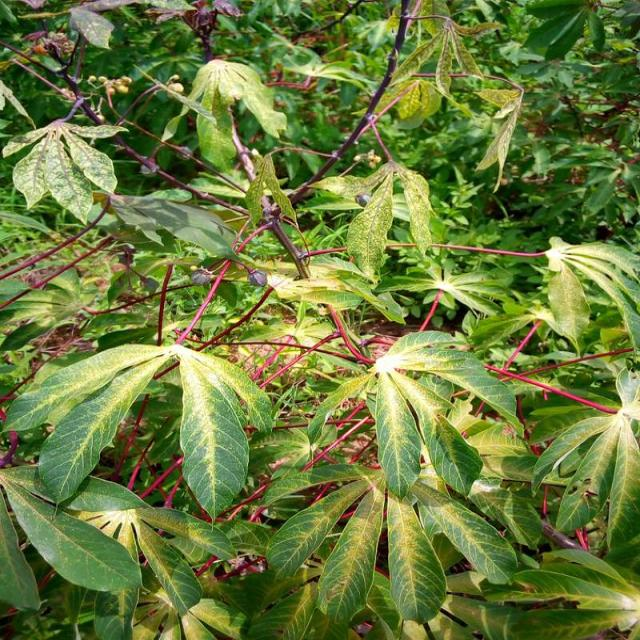cassava leaf: (3, 341, 273, 518)
